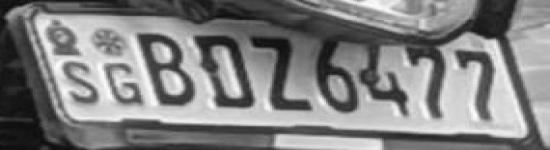4: (359, 33, 412, 120)
6: (314, 33, 362, 114)
7: (451, 43, 502, 126), (408, 42, 452, 121)
B: (136, 27, 198, 109)
D: (195, 28, 259, 111)
G: (102, 61, 146, 106)
S: (57, 58, 102, 107)
Z: (254, 30, 313, 114)
